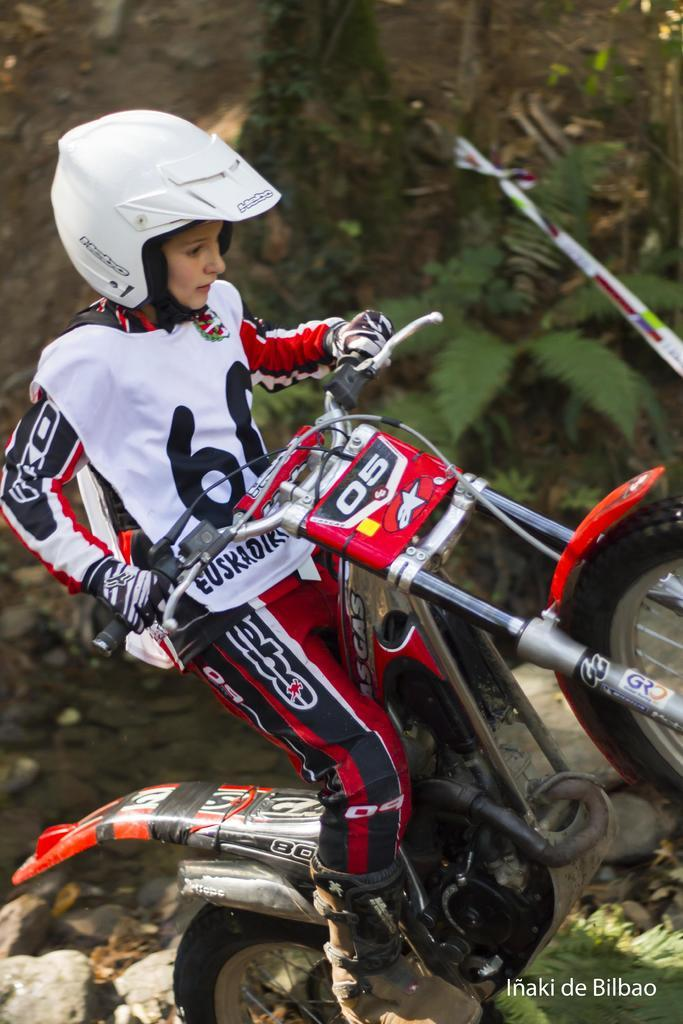helmet: (49, 109, 283, 311)
